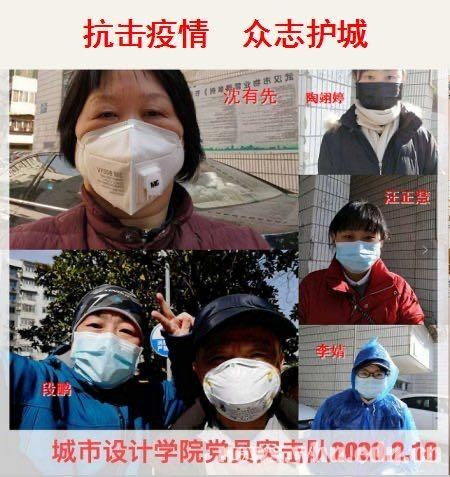correctlyWear: (57, 112, 188, 216), (163, 337, 300, 422), (70, 308, 141, 389), (328, 228, 389, 274), (353, 74, 408, 110), (350, 360, 385, 399)
